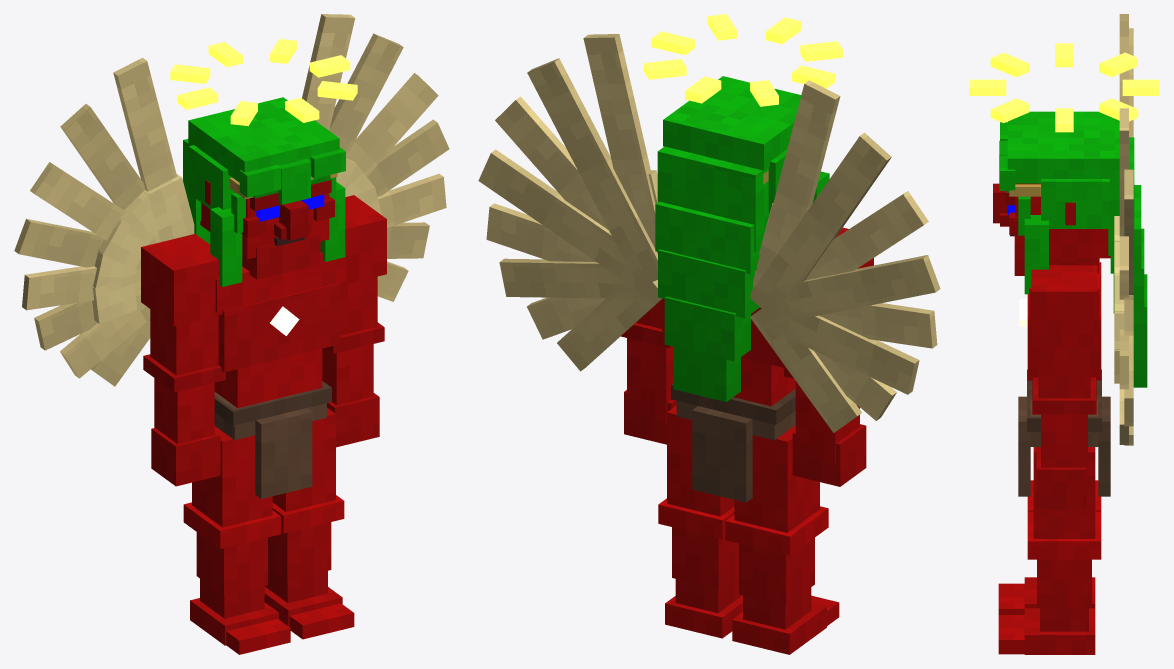
Rendered from angel_s1_evo1.glb.
3 renders of one model, left to right at view 1: azimuth 30°, elevation 25°; view 2: azimuth 150°, elevation 25°; view 3: azimuth 270°, elevation 25°, orthographic. The views are drawn at different scales.
Parts seen in each view (by area): view 1: Torso, Head, ArmR, LegR, LegL, ArmL; view 2: Torso, Head, LegR, LegL, ArmL, ArmR; view 3: Head, ArmL, Torso, LegL, LegR.
Part boxes in pixels (bbox=[...]): Torso: bbox=[14, 14, 449, 498]; Head: bbox=[170, 38, 357, 286]; ArmR: bbox=[141, 234, 225, 486]; LegR: bbox=[183, 426, 290, 654]; LegL: bbox=[264, 407, 354, 639]; ArmL: bbox=[322, 195, 386, 447]; Torso: bbox=[478, 34, 940, 502]; Head: bbox=[644, 14, 842, 401]; LegR: bbox=[725, 425, 839, 654]; LegL: bbox=[658, 405, 742, 638]; ArmL: bbox=[620, 299, 676, 444]; ArmR: bbox=[784, 227, 873, 486]; Head: bbox=[969, 43, 1159, 387]; ArmL: bbox=[1031, 265, 1097, 509]; Torso: bbox=[1018, 14, 1133, 496]; LegL: bbox=[998, 447, 1101, 654]; LegR: bbox=[998, 480, 1101, 614].
Size of the model in its own units: 1.63 by 2.02 by 0.6201.
Materials: 28 (28 with a texture image).
